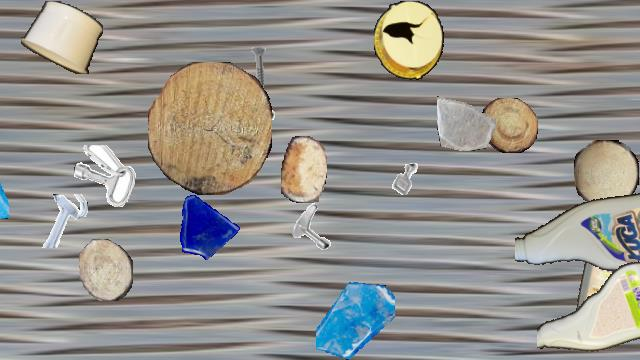glass: (316, 281, 394, 359), (170, 189, 240, 259), (437, 92, 495, 150), (0, 130, 9, 224)
metal: (223, 99, 285, 161), (74, 145, 136, 207), (36, 194, 90, 248), (286, 200, 340, 254), (235, 45, 283, 93), (384, 157, 428, 201)
plastic: (515, 176, 640, 280), (537, 257, 640, 359), (571, 217, 637, 339), (21, 1, 103, 73), (374, 1, 444, 79)
wood: (148, 62, 272, 194), (574, 140, 638, 204), (79, 239, 133, 301), (281, 136, 327, 202), (481, 98, 537, 152)
